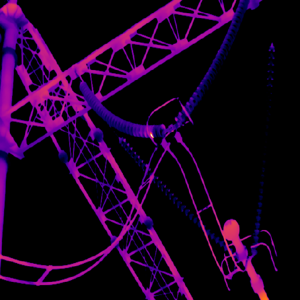insulator: (121, 137, 232, 253), (175, 0, 247, 126), (248, 39, 275, 257), (77, 76, 163, 138)
